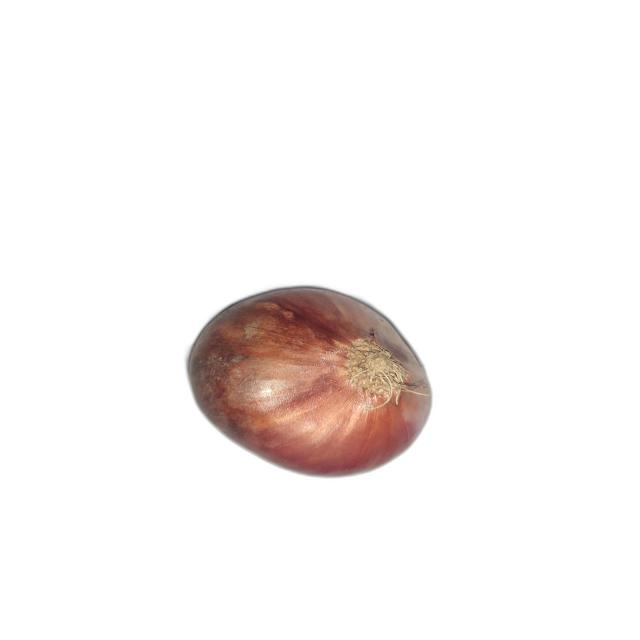onion: (185, 286, 434, 478)
